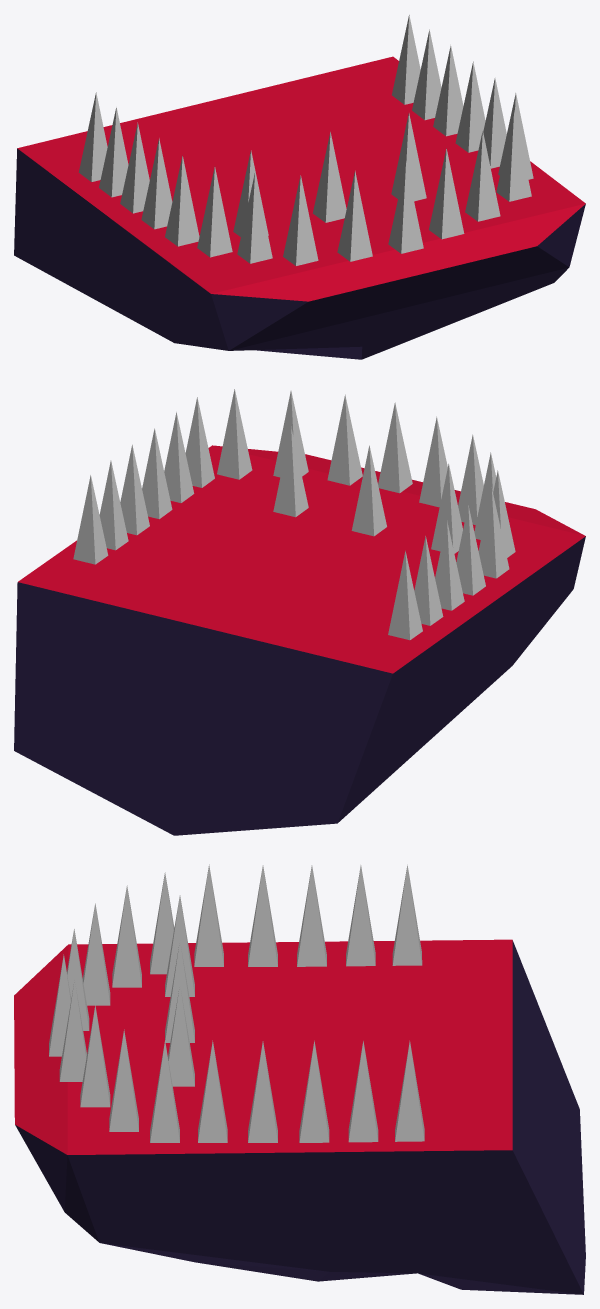
Rendered from Shark Jaw.fbx.
The picture shows the model from 3 angles, top to bottom: view 1: azimuth 30°, elevation 25°; view 2: azimuth 150°, elevation 25°; view 3: azimuth 270°, elevation 25°; orthographic projection. The views are drawn at different scales.
Parts seen in each view (by area): view 1: Silver Fish; view 2: Silver Fish; view 3: Silver Fish.
Boxes of the visible parts, x1,y1,x2,y2 form: Silver Fish: (14, 15, 585, 359); Silver Fish: (14, 389, 585, 835); Silver Fish: (14, 864, 585, 1294).
Bounding box in the file's own units: 2 × 1.36 × 2.3.
